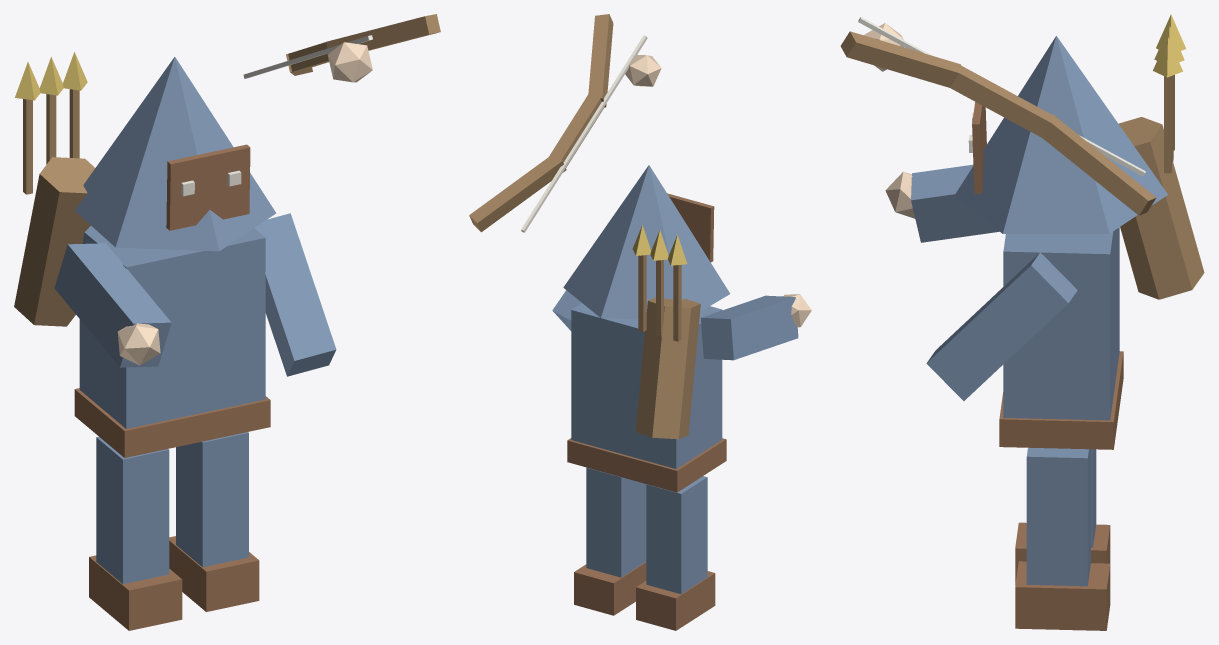
File: npcpose_archer_attack_02.glb
3 views of the same model, side by side, from view 1: azimuth 30°, elevation 25°; view 2: azimuth 150°, elevation 25°; view 3: azimuth 270°, elevation 25° (orthographic). The views are drawn at different scales.
Visible parts, largest first — view 1: npcpose; view 2: npcpose; view 3: npcpose.
Boxes of the visible parts, box(x1,y1,x2,y2) form: npcpose: box(14, 14, 440, 630); npcpose: box(469, 14, 811, 630); npcpose: box(840, 14, 1204, 630).
Size of the model in its own units: 0.9482 by 1.85 by 0.9529.
